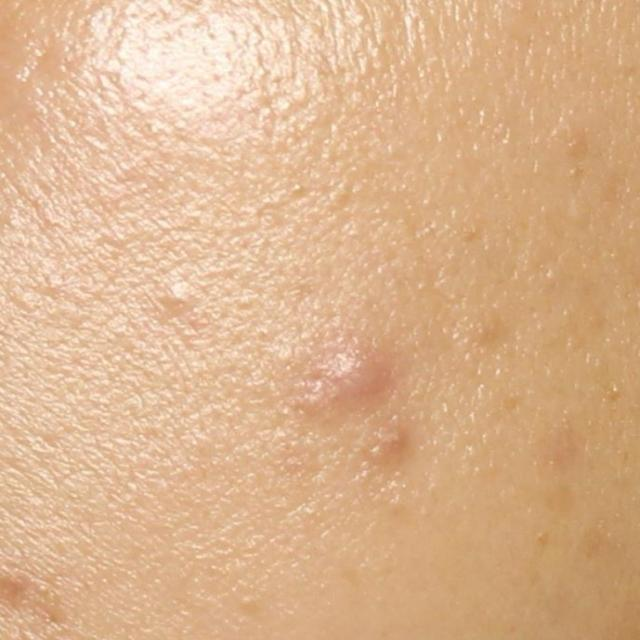nodule: (294, 334, 404, 421)
